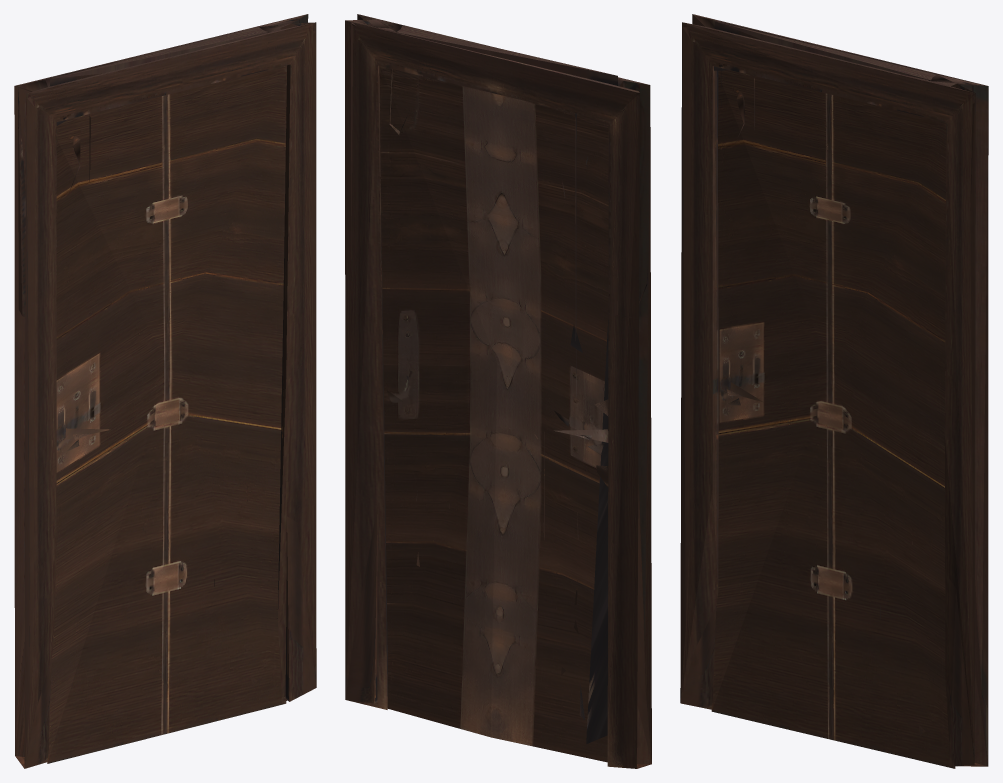
Rendered from Door_House.fbx.
3 renders of one model, left to right at view 1: azimuth 30°, elevation 25°; view 2: azimuth 150°, elevation 25°; view 3: azimuth 330°, elevation 25°, orthographic.
Parts seen in each view (by area): view 1: Mesh_0; view 2: Mesh_0; view 3: Mesh_0.
Part boxes in pixels (<box>): Mesh_0: <box>14,14,316,768</box>; Mesh_0: <box>345,14,651,768</box>; Mesh_0: <box>680,14,988,768</box>.
Bounding box in the file's own units: 90 × 200 × 8.
Materials: 1 (1 with a texture image).
